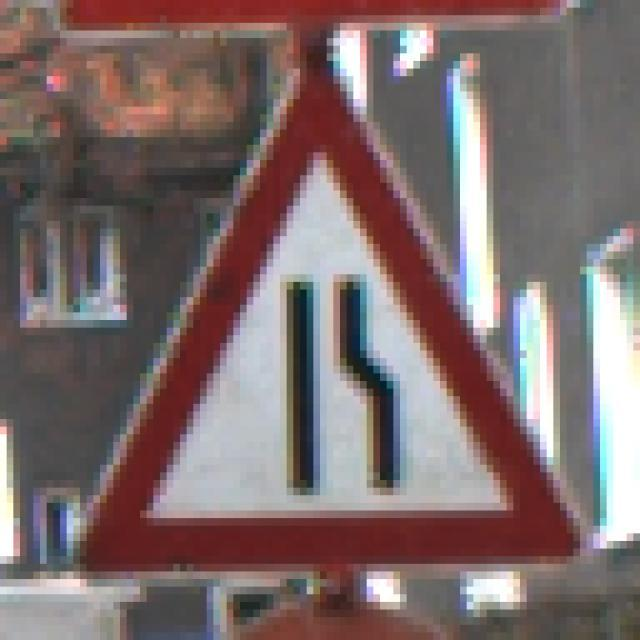narrow road ahead: (51, 41, 596, 579)
